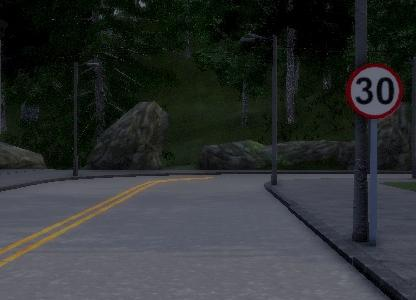Speed_30: (342, 55, 403, 121)
